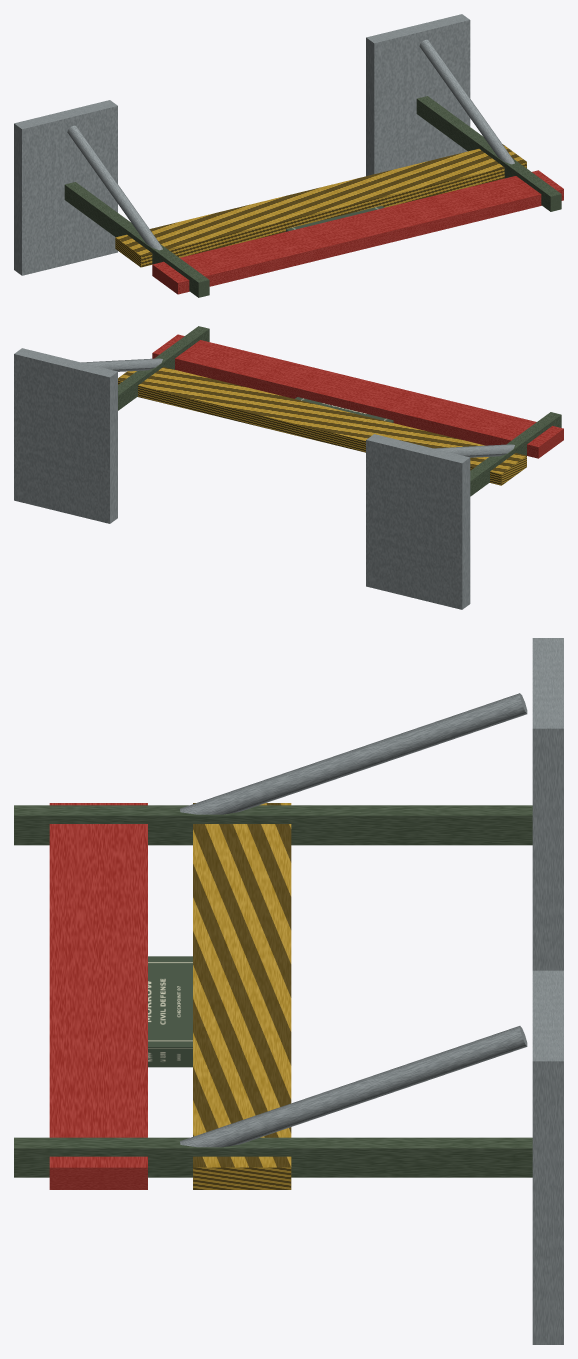
File: Portable_Roadblock_2m.glb
The picture shows the model from 3 angles, top to bottom: view 1: azimuth 30°, elevation 25°; view 2: azimuth 150°, elevation 25°; view 3: azimuth 270°, elevation 25°; orthographic projection. The views are drawn at different scales.
Parts seen in each view (by area): view 1: Portable_Roadblock_2m__L_BASE_FOOT, Portable_Roadblock_2m__HIGH_REFLECTIVE_PLATE, Portable_Roadblock_2m__LOW_REFLECTIVE_PLATE, Portable_Roadblock_2m__R_BASE_FOOT, Portable_Roadblock_2m__L_UPRIGHT, Portable_Roadblock_2m__R_UPRIGHT, Portable_Roadblock_2m__R_REAR_STABILIZER, Portable_Roadblock_2m__L_REAR_STABILIZER; view 2: Portable_Roadblock_2m__L_BASE_FOOT, Portable_Roadblock_2m__R_BASE_FOOT, Portable_Roadblock_2m__HIGH_REFLECTIVE_PLATE, Portable_Roadblock_2m__LOW_REFLECTIVE_PLATE, Portable_Roadblock_2m__R_UPRIGHT, Portable_Roadblock_2m__L_UPRIGHT, Portable_Roadblock_2m__R_REAR_STABILIZER, Portable_Roadblock_2m__L_REAR_STABILIZER; view 3: Portable_Roadblock_2m__HIGH_REFLECTIVE_PLATE, Portable_Roadblock_2m__LOW_REFLECTIVE_PLATE, Portable_Roadblock_2m__R_UPRIGHT, Portable_Roadblock_2m__L_UPRIGHT, Portable_Roadblock_2m__R_BASE_FOOT, Portable_Roadblock_2m__L_BASE_FOOT, Portable_Roadblock_2m__R_REAR_STABILIZER, Portable_Roadblock_2m__L_REAR_STABILIZER, Portable_Roadblock_2m__CENTER_INFO_SIGN.
Boxes of the visible parts, box(x1,y1,x2,y2) form: Portable_Roadblock_2m__L_BASE_FOOT: box(14, 100, 117, 275); Portable_Roadblock_2m__HIGH_REFLECTIVE_PLATE: box(152, 170, 563, 294); Portable_Roadblock_2m__LOW_REFLECTIVE_PLATE: box(115, 144, 526, 267); Portable_Roadblock_2m__R_BASE_FOOT: box(366, 14, 470, 176); Portable_Roadblock_2m__L_UPRIGHT: box(64, 182, 209, 297); Portable_Roadblock_2m__R_UPRIGHT: box(416, 96, 561, 211); Portable_Roadblock_2m__R_REAR_STABILIZER: box(419, 39, 514, 164); Portable_Roadblock_2m__L_REAR_STABILIZER: box(67, 125, 162, 250); Portable_Roadblock_2m__L_BASE_FOOT: box(366, 434, 470, 609); Portable_Roadblock_2m__R_BASE_FOOT: box(14, 348, 117, 523); Portable_Roadblock_2m__HIGH_REFLECTIVE_PLATE: box(152, 334, 563, 458); Portable_Roadblock_2m__LOW_REFLECTIVE_PLATE: box(118, 367, 526, 485); Portable_Roadblock_2m__R_UPRIGHT: box(118, 326, 209, 410); Portable_Roadblock_2m__L_UPRIGHT: box(470, 412, 561, 496); Portable_Roadblock_2m__R_REAR_STABILIZER: box(81, 358, 162, 371); Portable_Roadblock_2m__L_REAR_STABILIZER: box(434, 444, 514, 457); Portable_Roadblock_2m__HIGH_REFLECTIVE_PLATE: box(49, 803, 147, 1189); Portable_Roadblock_2m__LOW_REFLECTIVE_PLATE: box(193, 803, 291, 1189); Portable_Roadblock_2m__R_UPRIGHT: box(14, 1137, 532, 1177); Portable_Roadblock_2m__L_UPRIGHT: box(14, 805, 532, 845); Portable_Roadblock_2m__R_BASE_FOOT: box(532, 970, 563, 1344); Portable_Roadblock_2m__L_BASE_FOOT: box(532, 638, 563, 970); Portable_Roadblock_2m__R_REAR_STABILIZER: box(180, 1026, 527, 1147); Portable_Roadblock_2m__L_REAR_STABILIZER: box(180, 693, 527, 814); Portable_Roadblock_2m__CENTER_INFO_SIGN: box(148, 956, 192, 1067).
Bounding box in the file's own units: 2.24 × 0.7 × 1.23.
5 materials, 5 textured.
